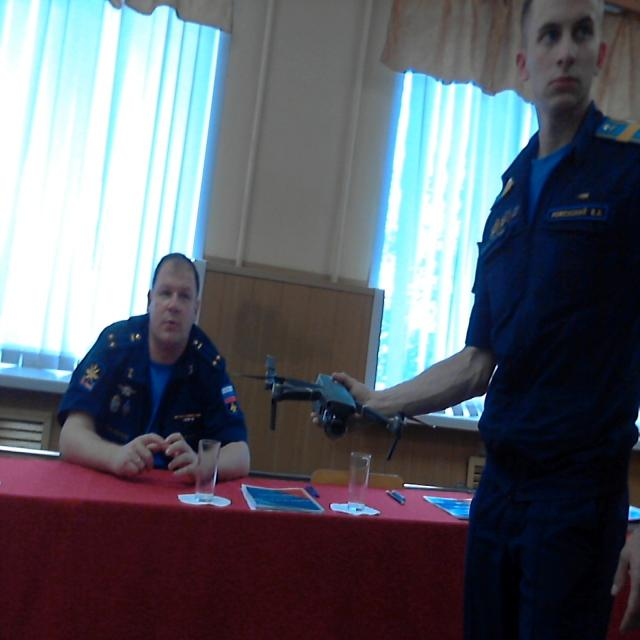drone: (223, 324, 449, 473)
